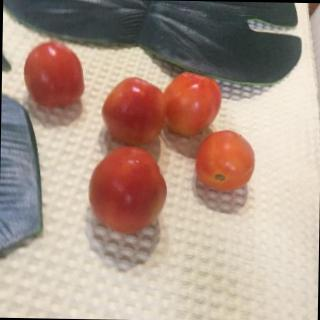Tomat: (73, 143, 174, 239), (13, 35, 94, 109), (99, 74, 172, 146), (158, 65, 222, 140), (194, 121, 256, 198)
